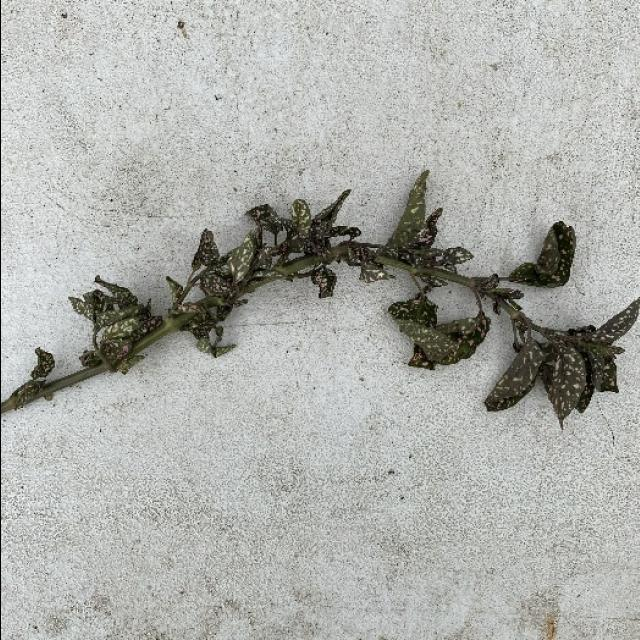organik: (8, 182, 640, 442)
